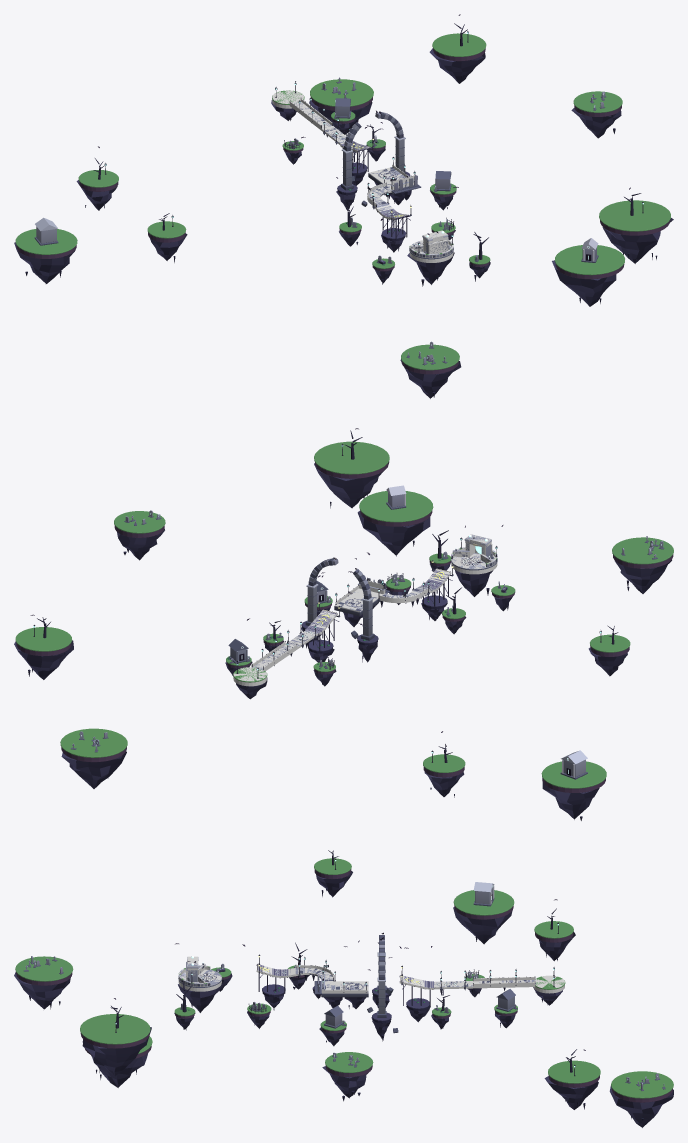
3 views of the same model, one above another, from view 1: azimuth 30°, elevation 25°; view 2: azimuth 150°, elevation 25°; view 3: azimuth 270°, elevation 25° (orthographic). The views are drawn at different scales.
Visible parts, largest first — view 1: V_moss, V_rock, V_stone, V_dirt, V_stone_dark, C_0, V_beam_dark, C_2, V_iron, V_stone_light, C_1; view 2: V_moss, V_rock, V_stone, V_dirt, C_0, V_stone_dark, C_1, V_beam_dark, C_2, V_stone_light, V_iron; view 3: V_rock, V_moss, V_dirt, C_0, V_stone, V_stone_dark, C_1, V_beam_dark, V_iron, V_rock_dark, V_stone_light, C_2.
Boxes of the visible parts, x1,y1,x2,y2 form: V_moss: (15, 33, 670, 370); V_rock: (14, 48, 673, 398); V_stone: (36, 77, 605, 364); V_dirt: (16, 48, 670, 374); V_stone_dark: (34, 81, 605, 365); C_0: (272, 90, 409, 220); V_beam_dark: (93, 23, 641, 259); C_2: (391, 175, 453, 257); V_iron: (104, 31, 643, 252); V_stone_light: (35, 136, 598, 255); C_1: (368, 167, 453, 262); V_moss: (15, 441, 673, 788); V_rock: (14, 461, 671, 819); V_stone: (72, 492, 663, 777); V_dirt: (16, 462, 673, 792); C_0: (233, 568, 451, 686); V_stone_dark: (71, 502, 664, 779); C_1: (334, 553, 497, 612); V_beam_dark: (37, 430, 618, 762); C_2: (358, 534, 496, 594); V_stone_light: (306, 485, 587, 764); V_iron: (33, 444, 601, 762); V_rock: (14, 871, 673, 1127); V_moss: (15, 858, 673, 1098); V_dirt: (16, 869, 672, 1102); C_0: (256, 964, 564, 993); V_stone: (25, 888, 664, 1090); V_stone_dark: (23, 898, 665, 1090); C_1: (178, 969, 368, 993); V_beam_dark: (110, 850, 576, 1072); V_iron: (115, 858, 575, 1076); V_rock_dark: (29, 889, 643, 1120); V_stone_light: (178, 882, 494, 989); C_2: (178, 956, 324, 992).
Size of the model in its own units: 154 by 40.7 by 168.
